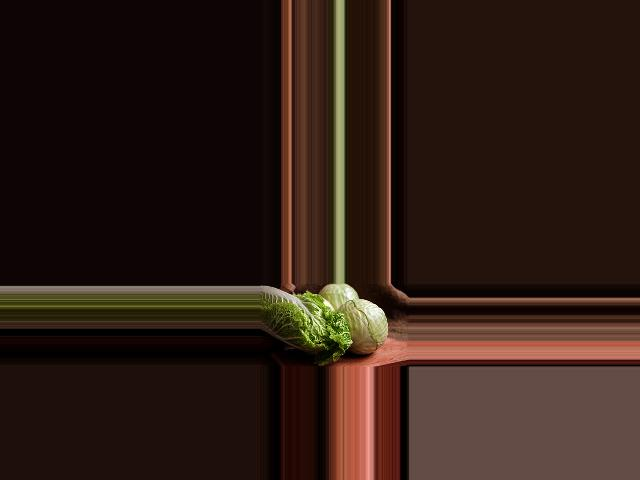lettuce: (261, 288, 352, 367)
